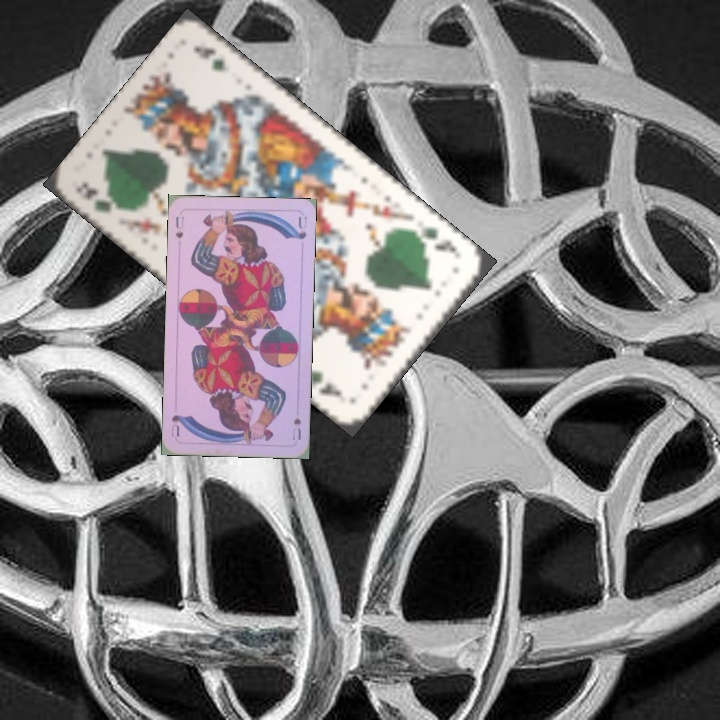GK: (71, 177, 128, 215), (411, 222, 465, 260)
SU: (172, 212, 187, 241), (289, 414, 303, 442)
